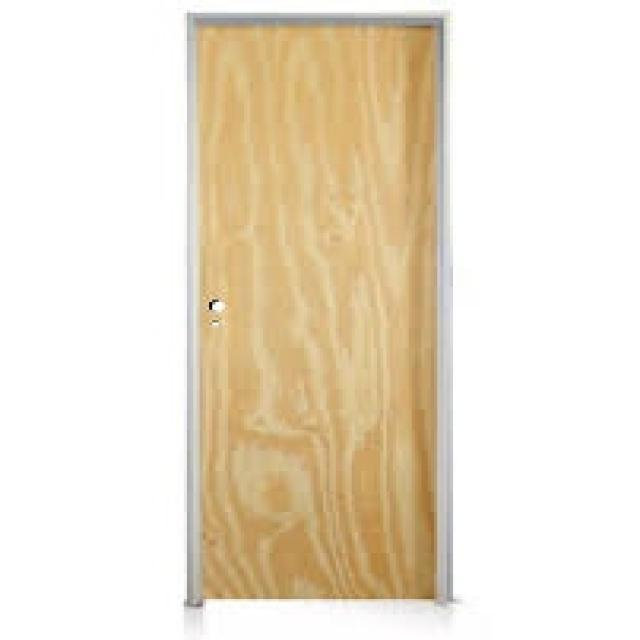door: (186, 12, 452, 606)
